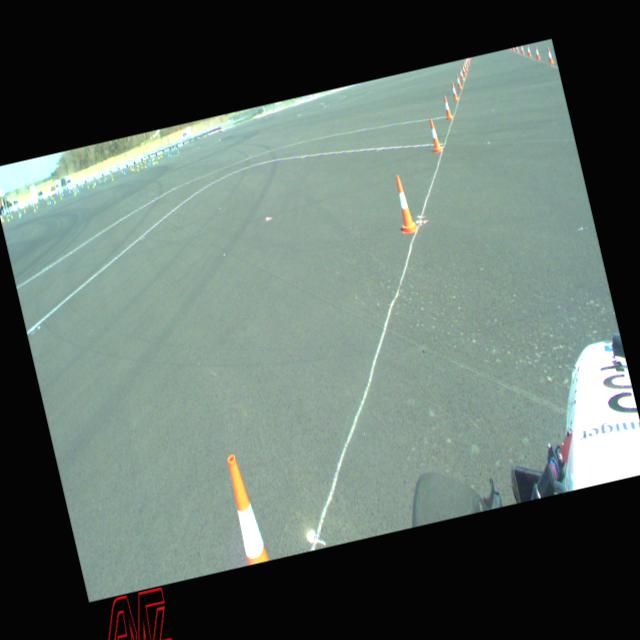orange_cone: (223, 452, 269, 565), (390, 174, 418, 234), (427, 118, 442, 152), (442, 94, 452, 120), (450, 82, 458, 101), (546, 46, 554, 64), (533, 44, 540, 60), (455, 74, 462, 89), (458, 67, 464, 80), (526, 44, 531, 56), (520, 46, 524, 54)
